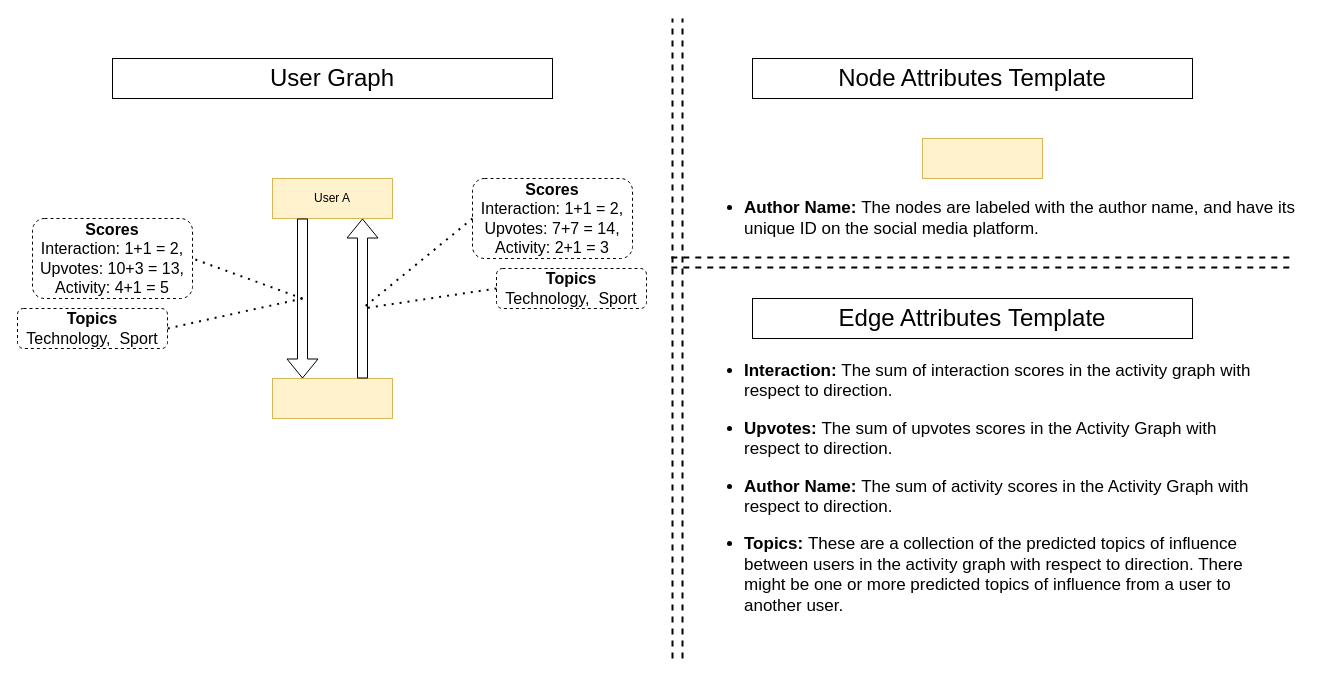
Some shapes in this 1320 by 677 pixel diagram are drawn without their labels. The shapes that lost their labels are listed below. From the top down, each one's centre as x and y in pixels, then its label:
At pixel 982 158: "Author Name".
At pixel 332 398: "User D".
